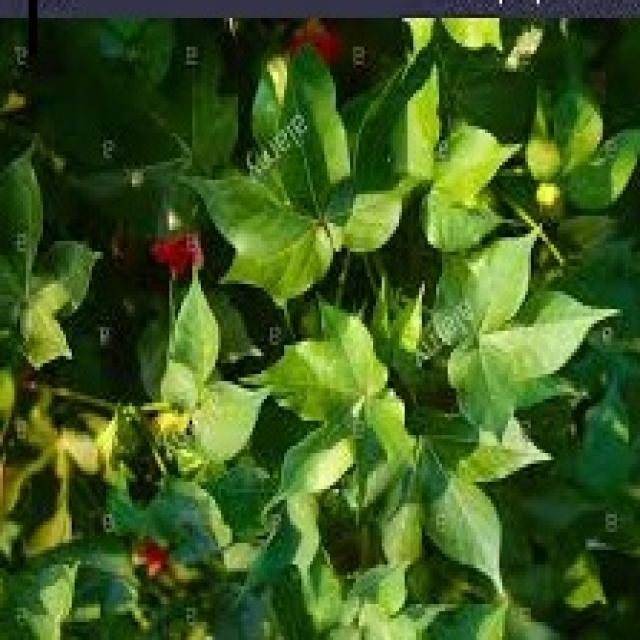Healthy Leaf: (8, 30, 596, 602)
